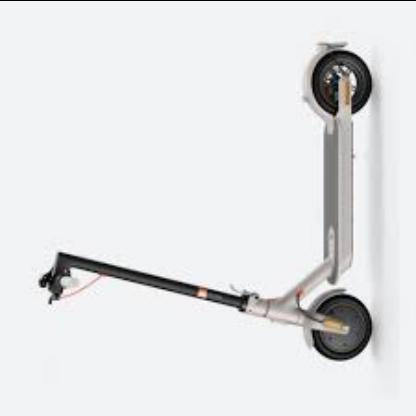bike: (38, 41, 376, 365), (40, 251, 373, 363)
